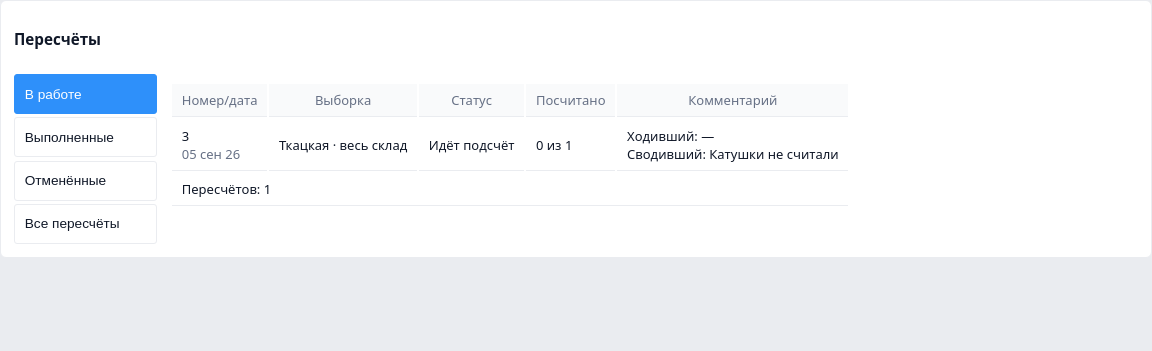
журнал пересчётов › «Просмотр» читает комментарий текстом и не сводит расхождения
Click the text "Идёт подсчёт" at [472, 145], box top-left (419, 119), bottom-right (524, 171)
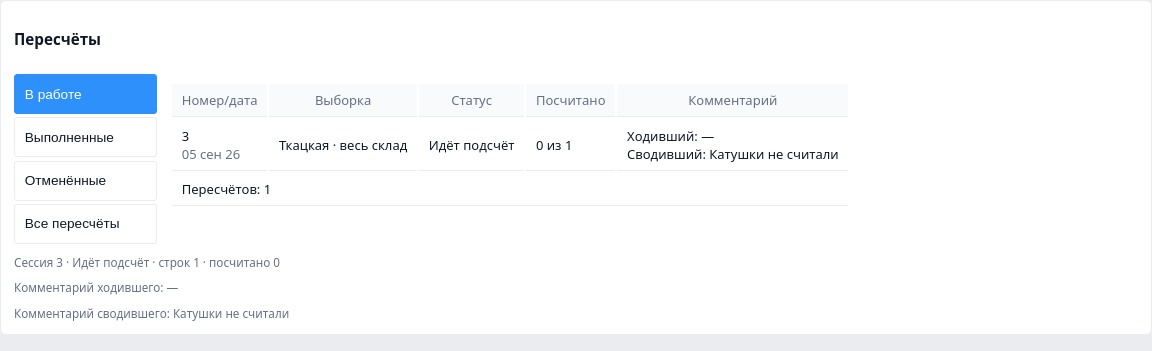
Expected: the text "Сессия 3 · Идёт подсчёт · строк 1 · посчитано 0" is shown, top-left (14, 254), bottom-right (280, 270)
Expected: the text "Комментарий сводившего: Катушки не считали" is shown, top-left (14, 305), bottom-right (289, 321)
